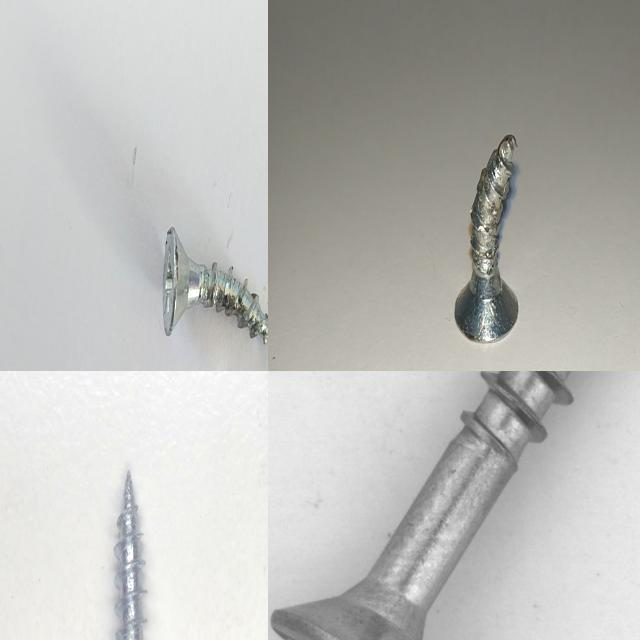Screw: (268, 371, 640, 640), (454, 133, 518, 342), (162, 226, 268, 343), (114, 471, 145, 640)
